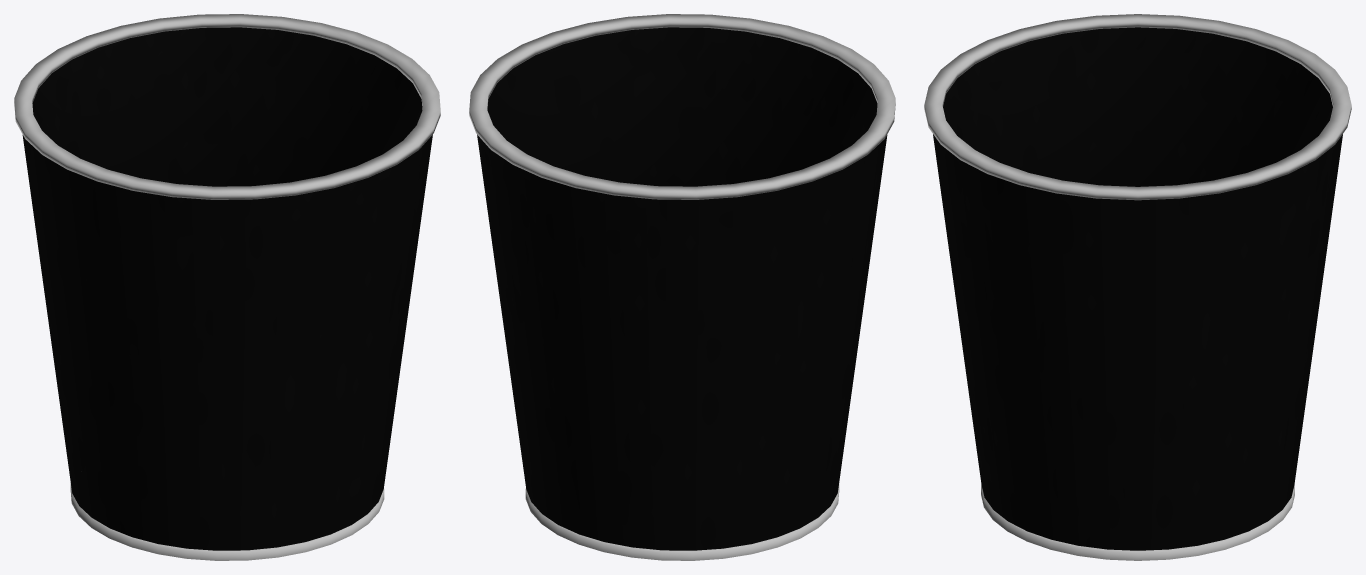
The model's file is PaperTosserExtraClean.fbx.
3 views of the same model, side by side, from view 1: azimuth 30°, elevation 25°; view 2: azimuth 150°, elevation 25°; view 3: azimuth 270°, elevation 25° (orthographic).
Parts seen in each view (by area): view 1: PaperTosserClean; view 2: PaperTosserClean; view 3: PaperTosserClean.
Part boxes in pixels (x1=…): PaperTosserClean: x1=14, y1=14, x2=440, y2=560; PaperTosserClean: x1=469, y1=14, x2=895, y2=560; PaperTosserClean: x1=924, y1=14, x2=1351, y2=560.
Bounding box in the file's own units: 59.96 × 67.5 × 59.96.
